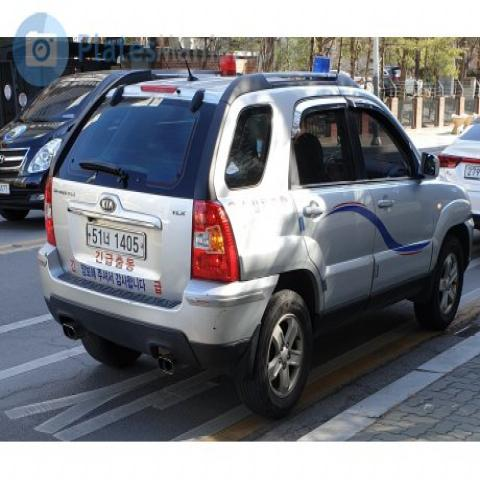LP: (82, 215, 152, 261)
